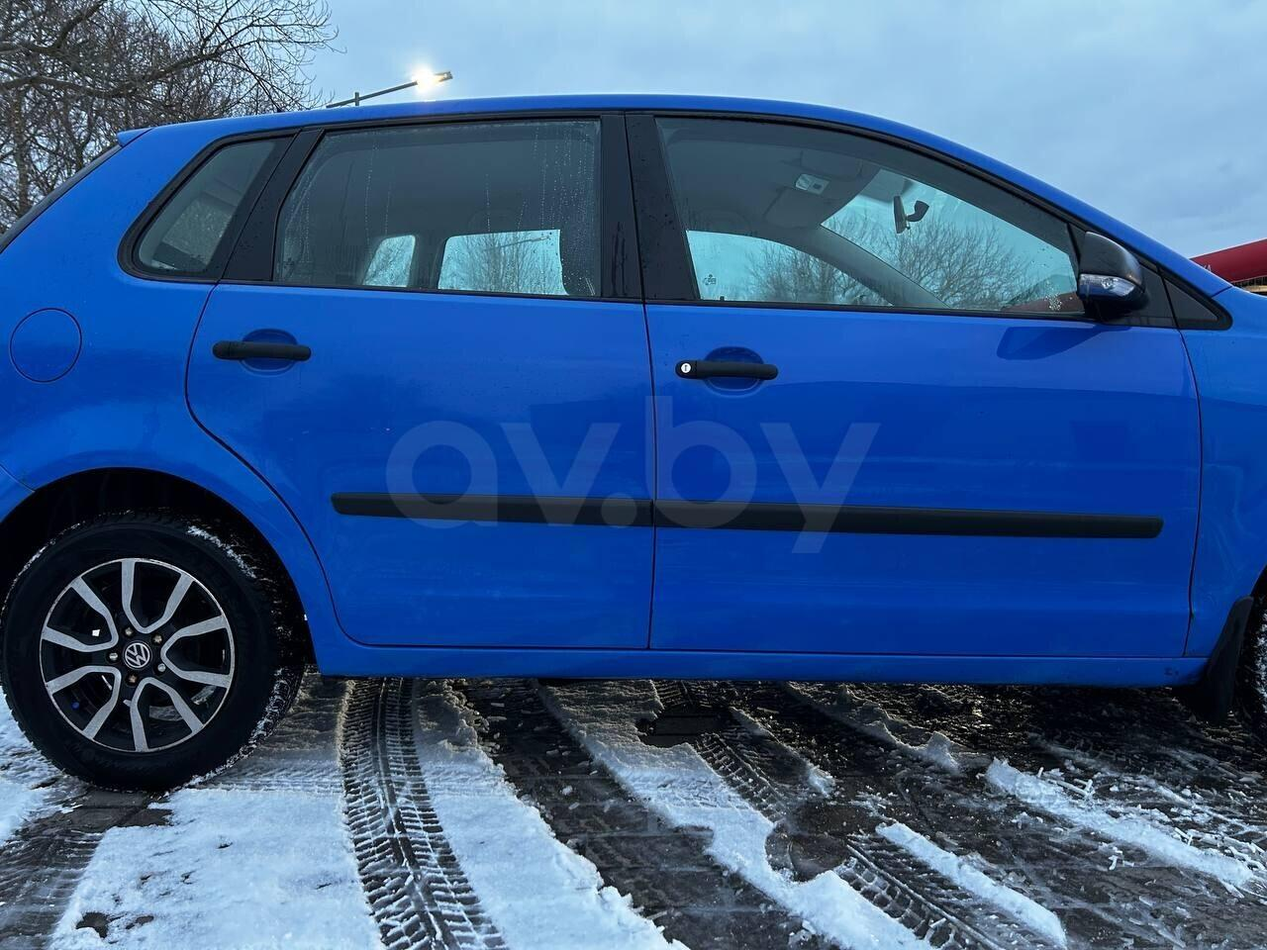Polo_2005-2009: (0, 92, 1266, 796)
